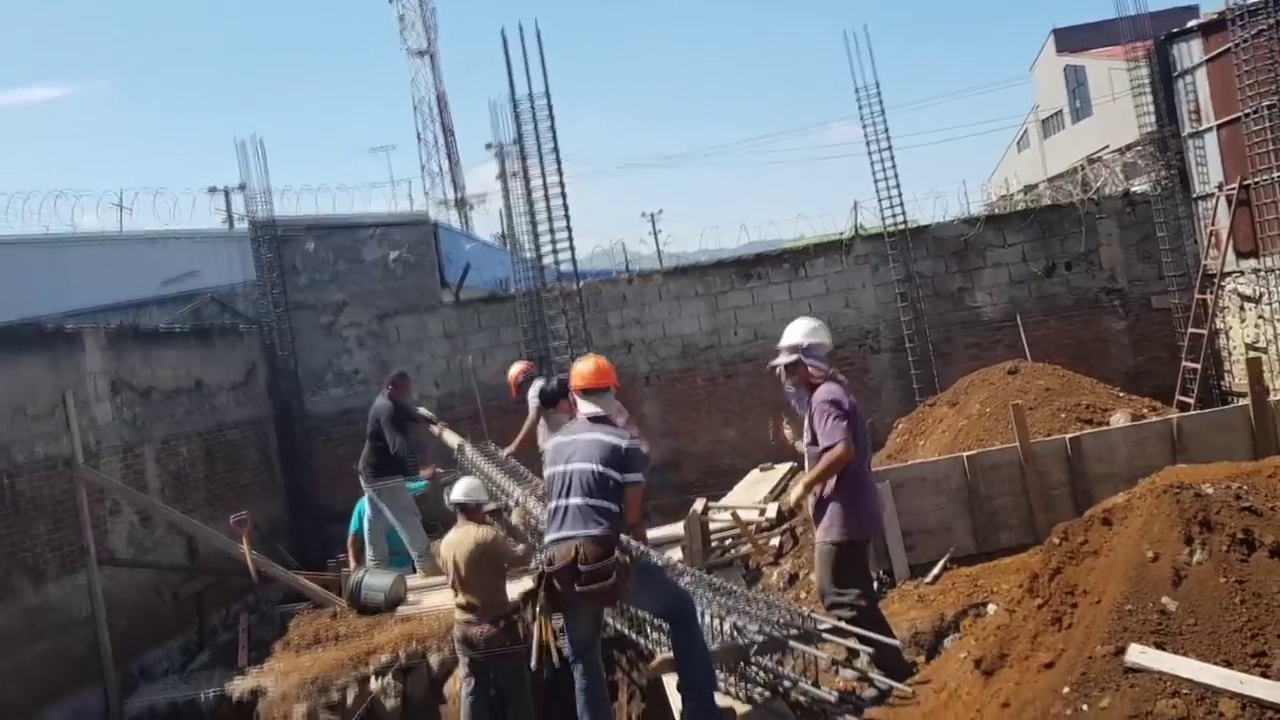helmet: (768, 317, 836, 361), (565, 356, 619, 396), (445, 480, 492, 511), (506, 366, 530, 398)
helmet-off: (541, 376, 572, 421), (381, 376, 409, 411)
helmet-on: (767, 318, 835, 401), (564, 356, 619, 423), (447, 480, 492, 526), (506, 365, 538, 400)
person: (537, 353, 736, 720), (764, 316, 907, 686), (441, 480, 527, 717), (356, 372, 443, 577), (501, 369, 652, 469)
